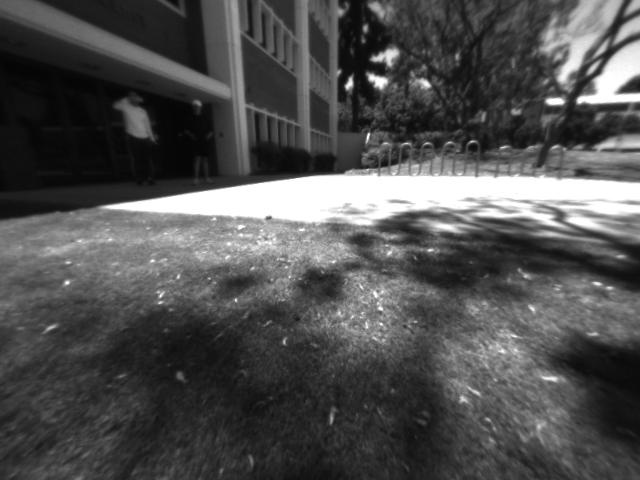dogtoy: (255, 203, 280, 230)
